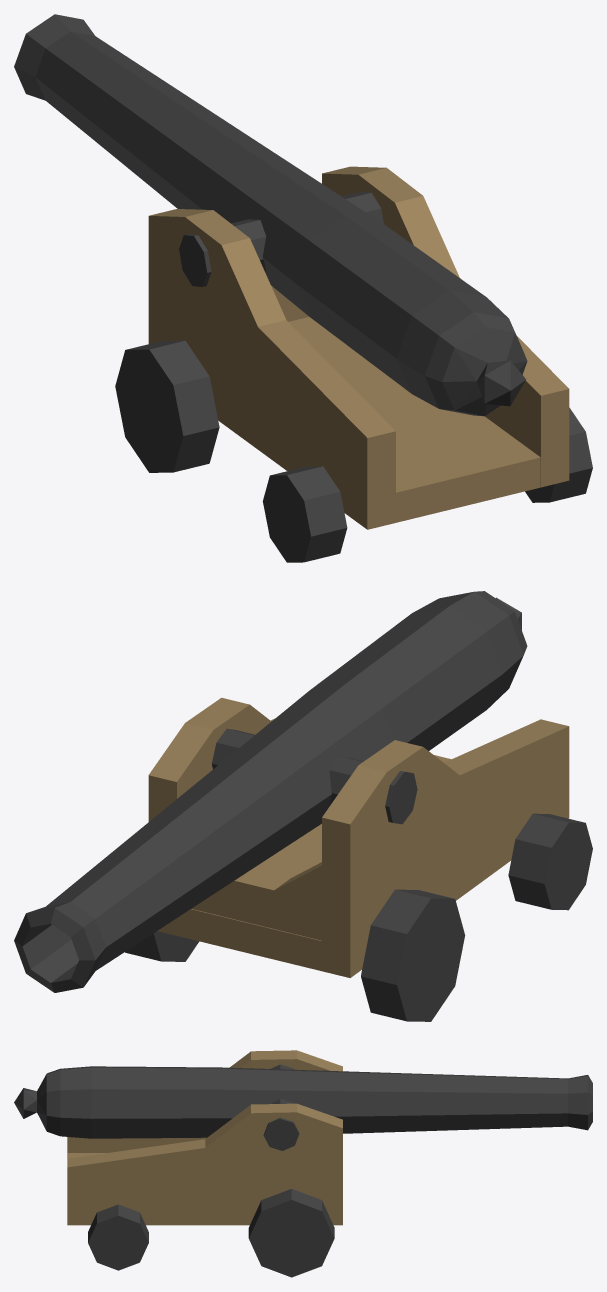
File: Cannon 2 destruction.fbx
The picture shows the model from 3 angles, top to bottom: view 1: azimuth 30°, elevation 25°; view 2: azimuth 150°, elevation 25°; view 3: azimuth 270°, elevation 25°; orthographic projection. The views are drawn at different scales.
Parts seen in each view (by area): view 1: Cube.304, Cylinder.071, Cylinder.073, Cylinder.075, Cylinder.026, Cylinder.074; view 2: Cylinder.071, Cube.304, Cylinder.073, Cylinder.075, Cylinder.026, Cylinder.076; view 3: Cylinder.071, Cube.304, Cylinder.076, Cylinder.074, Cylinder.026.
Part boxes in pixels (x1,y1,x2,y2): Cube.304: [148, 166, 569, 529]; Cylinder.071: [14, 14, 527, 416]; Cylinder.073: [115, 340, 219, 472]; Cylinder.075: [262, 466, 347, 562]; Cylinder.026: [179, 191, 383, 286]; Cylinder.074: [525, 407, 592, 502]; Cylinder.071: [14, 591, 527, 992]; Cube.304: [148, 697, 569, 977]; Cylinder.073: [361, 889, 465, 1021]; Cylinder.075: [508, 813, 592, 910]; Cylinder.026: [211, 728, 417, 824]; Cylinder.076: [125, 931, 199, 961]; Cylinder.071: [14, 1066, 592, 1138]; Cube.304: [67, 1050, 342, 1225]; Cylinder.076: [248, 1189, 334, 1277]; Cylinder.074: [88, 1204, 148, 1270]; Cylinder.026: [263, 1064, 299, 1150].
Size of the model in its own units: 1.22 by 1.09 by 3.44.
